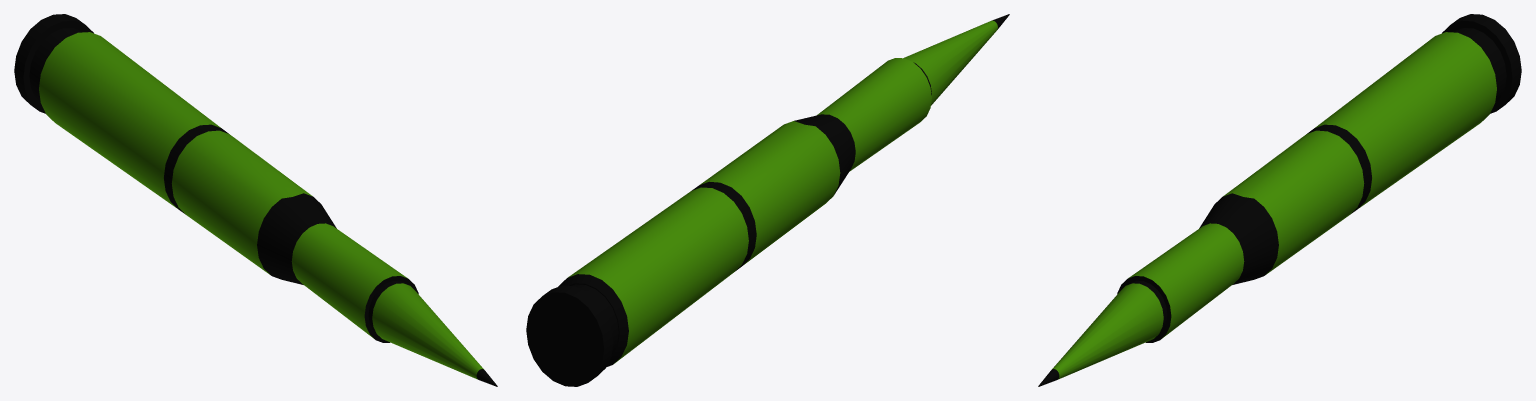
Rendered from Bullet-Green.fbx.
3 views of the same model, side by side, from view 1: azimuth 30°, elevation 25°; view 2: azimuth 150°, elevation 25°; view 3: azimuth 330°, elevation 25° (orthographic).
Parts seen in each view (by area): view 1: Cube; view 2: Cube; view 3: Cube.
Part boxes in pixels (bbox=[...]): Cube: bbox=[14, 14, 497, 386]; Cube: bbox=[526, 14, 1009, 386]; Cube: bbox=[1038, 14, 1521, 386].
Size of the model in its own units: 13.68 by 15.66 by 135.
